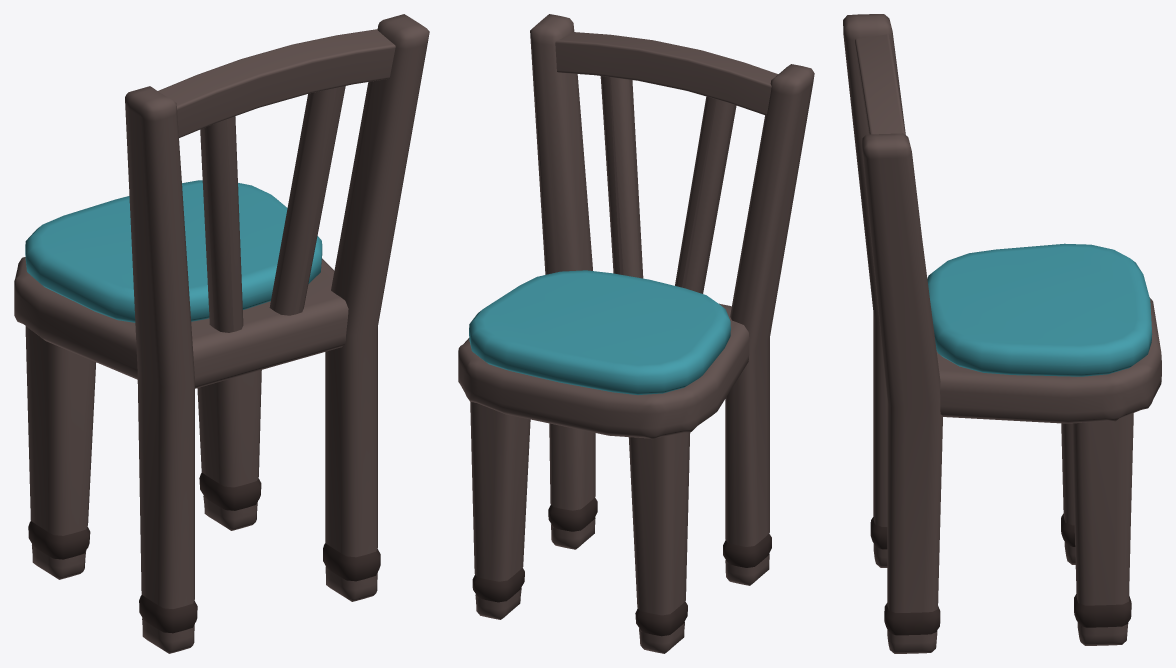
Rendered from Stuhl1.fbx.
The picture shows the model from 3 angles, left to right: view 1: azimuth 30°, elevation 25°; view 2: azimuth 150°, elevation 25°; view 3: azimuth 270°, elevation 25°; orthographic projection. The views are drawn at different scales.
Visible parts, largest first — view 1: Stuhl; view 2: Stuhl; view 3: Stuhl.
Boxes of the visible parts, x1,y1,x2,y2 form: Stuhl: (14, 14, 429, 653); Stuhl: (458, 14, 814, 653); Stuhl: (843, 14, 1161, 653).
Bounding box in the file's own units: 61.57 × 113 × 61.87.
